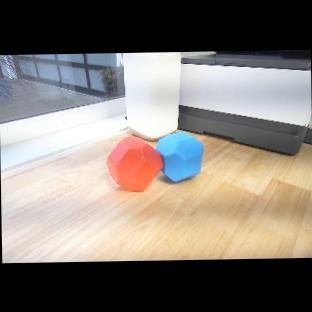V5_BLUE: (157, 131, 205, 183)
V5_RED: (106, 136, 163, 192)
